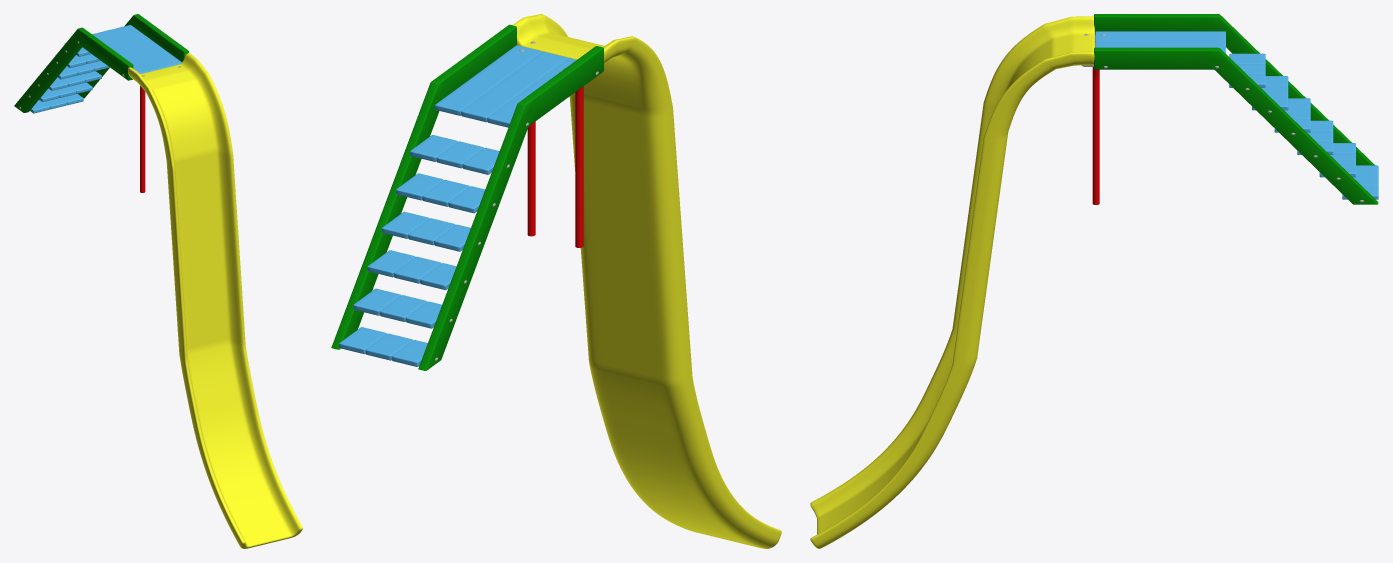
Rendered from WarpedSlide.fbx.
3 renders of one model, left to right at view 1: azimuth 30°, elevation 25°; view 2: azimuth 150°, elevation 25°; view 3: azimuth 270°, elevation 25°, orthographic. The views are drawn at different scales.
Visible parts, largest first — view 1: Slide; view 2: Slide; view 3: Slide.
Boxes of the visible parts, <box> form: Slide: <box>14,14,302,548</box>; Slide: <box>331,14,781,548</box>; Slide: <box>810,14,1378,548</box>.
Bounding box in the file's own units: 1094 × 6758 × 6929.
